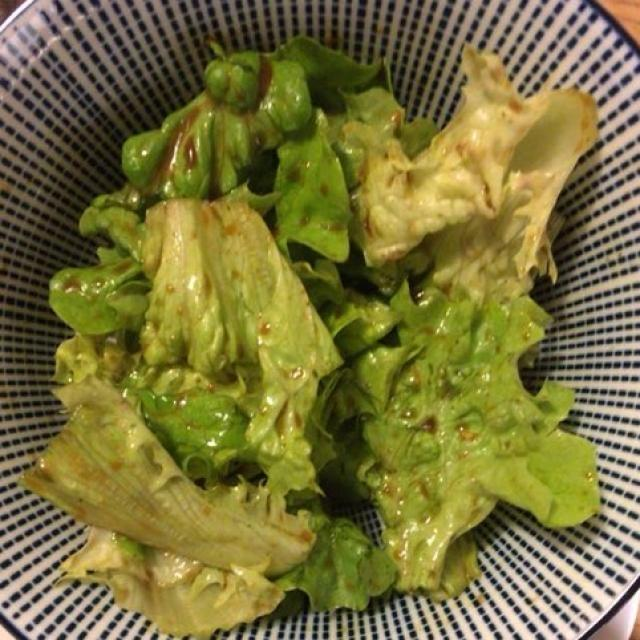salad: (60, 61, 505, 539)
